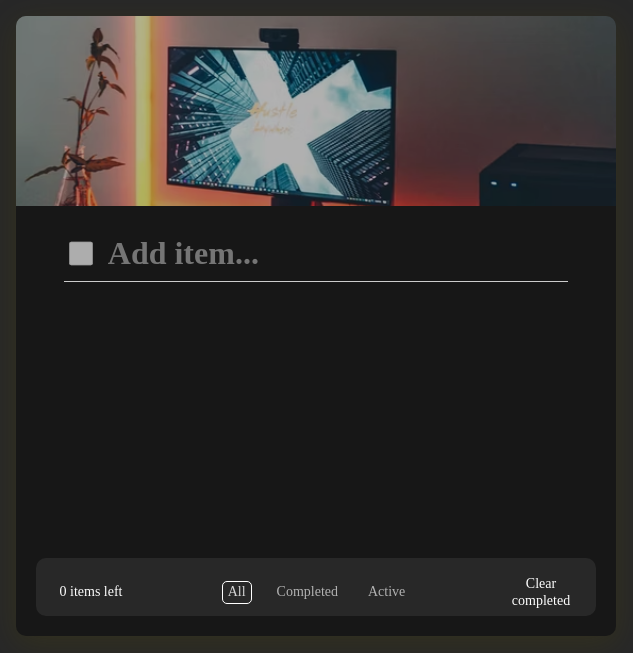
App › save todos to local storage
Type "Learn Redux" into the field with test id "input". click: (328, 254)
box: [93, 236, 563, 271]
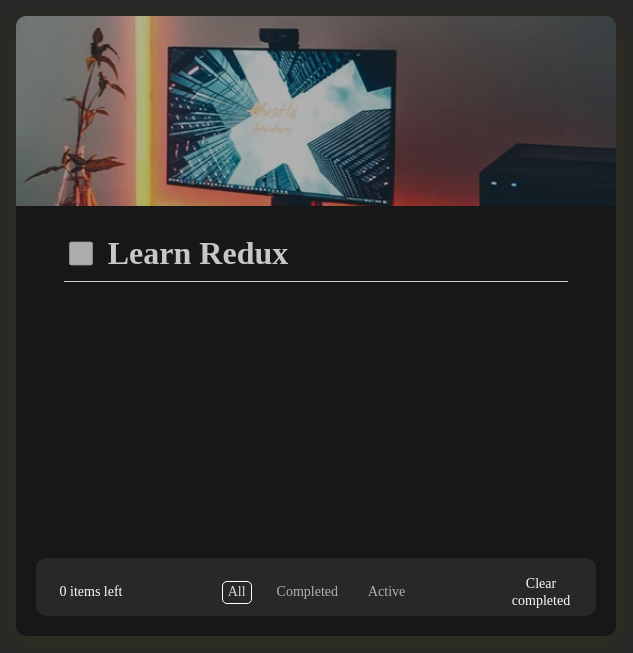
Submit the form from the button with test id "submit"
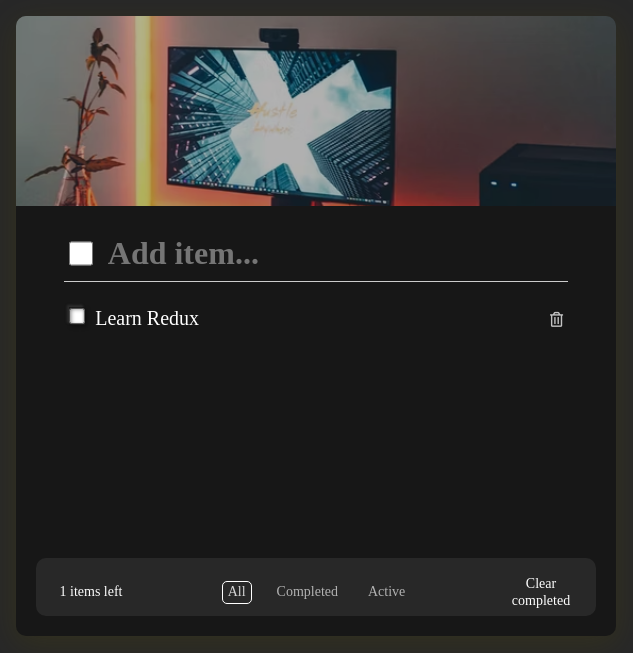
Expected: the label with test id "list-item-text" reads "Learn Redux", [95, 307, 199, 329]
